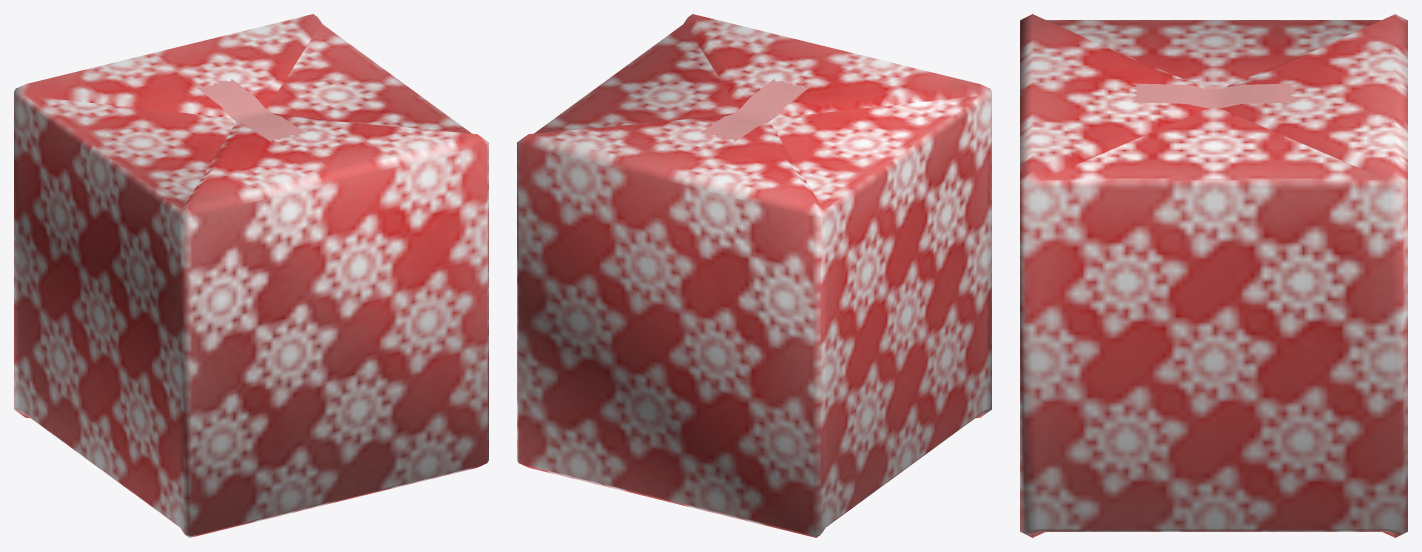
The picture shows the model from 3 angles, left to right: view 1: azimuth 30°, elevation 25°; view 2: azimuth 150°, elevation 25°; view 3: azimuth 270°, elevation 25°; orthographic projection. The views are drawn at different scales.
Parts seen in each view (by area): view 1: smMAT0110017; view 2: smMAT0110017; view 3: smMAT0110017.
Part boxes in pixels (box(x1,y1,x2,y2)): smMAT0110017: box(14, 14, 488, 537); smMAT0110017: box(517, 14, 991, 537); smMAT0110017: box(1020, 14, 1407, 537).
Size of the model in its own units: 30.73 by 32.23 by 30.73.
Materials: 1 (1 with a texture image).
